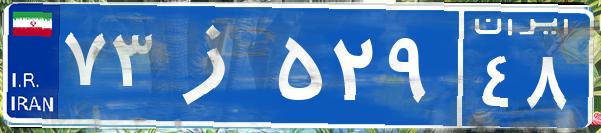2: (330, 28, 385, 110)
3: (110, 28, 158, 105)
4: (475, 38, 525, 113)
5: (273, 28, 330, 110)
7: (57, 26, 110, 107)
8: (525, 38, 570, 115)
9: (385, 28, 445, 110)
ز: (158, 15, 273, 115)
